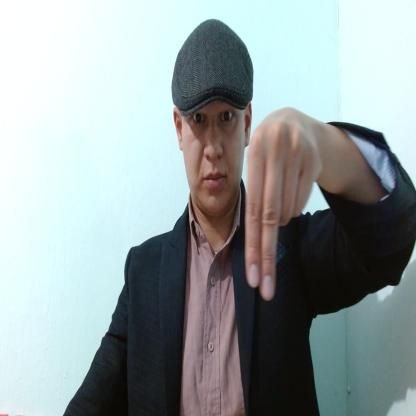N: (245, 107, 321, 302)
